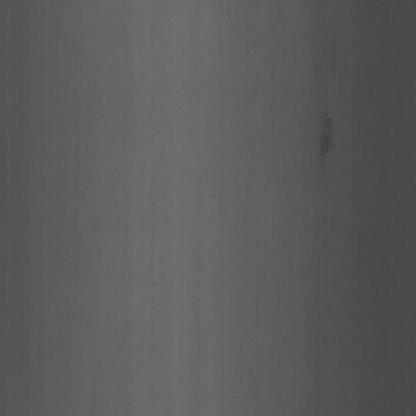inclusion: (314, 114, 338, 180)
